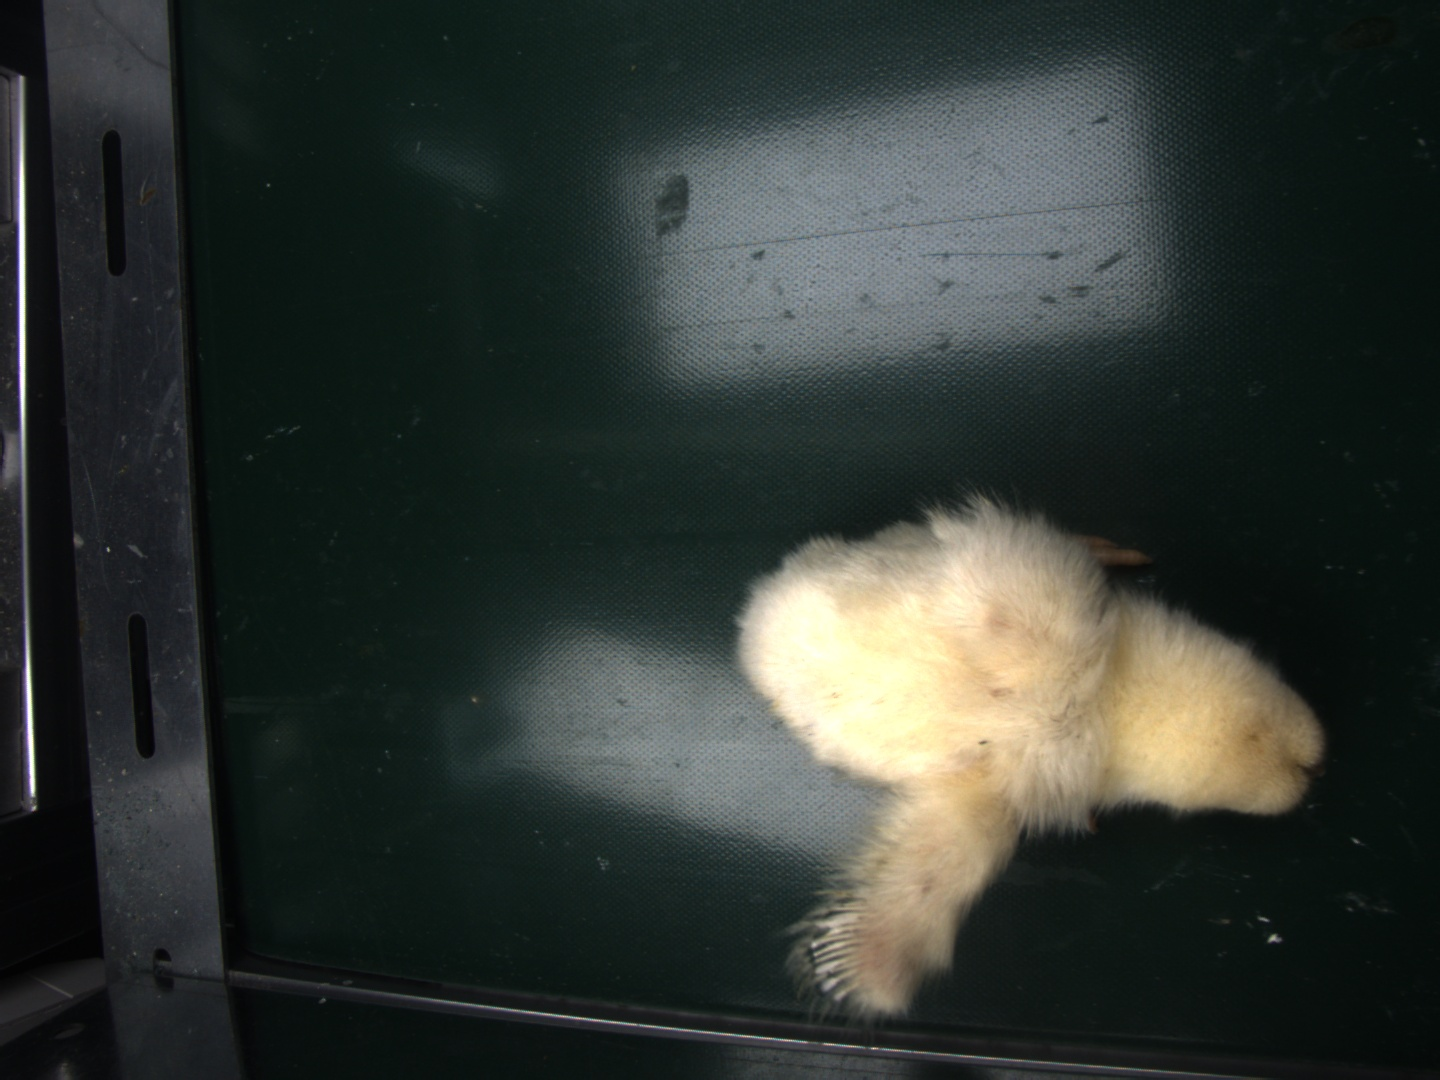male: (811, 904, 866, 1001)
